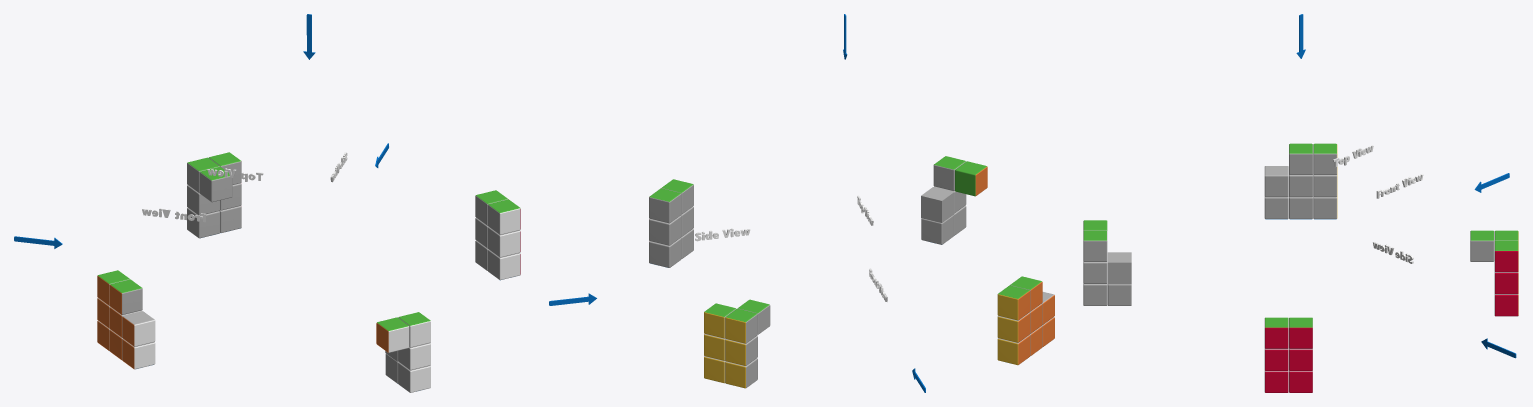
3 views of the same model, side by side, from view 1: azimuth 30°, elevation 25°; view 2: azimuth 150°, elevation 25°; view 3: azimuth 270°, elevation 25° (orthographic). The views are drawn at different scales.
Visible parts, largest first — view 1: pCube23, pCube26, pCube17, pCube28, pCube18, pCube20, pCube25, pCube22, pCube21, pCube27, pCube24, pCube9 (+6 smaller); view 2: pCube15, pCube4, pCube19, pCube26, pCube3, pCube7, pCube10, pCube13, pCube16, pCube6, pCube9, pCube2 (+7 smaller); view 3: pCube15, pCube27, pCube2, pCube28, pCube23, pCube18, pCube19, pCube4, pCube17, pCube10, pCube20, pCube5 (+11 smaller).
Part boxes in pixels (x1,y1,x2,y2): pCube23: (122,311,155,346); pCube26: (376,317,409,352); pCube17: (109,279,142,314); pCube28: (488,199,520,234); pCube18: (199,166,232,202); pCube20: (122,339,155,369); pCube25: (488,227,520,257); pCube22: (488,249,520,280); pCube21: (398,362,430,392); pCube27: (398,312,430,347); pCube24: (398,343,430,370); pCube9: (187,208,219,238); pCube15: (921,187,954,222); pCube4: (997,285,1030,320); pCube19: (649,188,681,223); pCube26: (955,161,987,196); pCube3: (725,308,757,343); pCube7: (997,312,1030,342); pCube10: (997,335,1030,365); pCube13: (649,238,681,267); pCube16: (649,215,681,245); pCube6: (725,336,757,365); pCube9: (725,358,757,388); pCube2: (704,303,736,338); pCube15: (1107,252,1131,284); pCube27: (1083,230,1107,261); pCube2: (1494,241,1518,272); pCube28: (1264,317,1288,348); pCube23: (1264,166,1288,197); pCube18: (1470,230,1494,261); pCube19: (1289,317,1312,348); pCube4: (1313,143,1337,174); pCube17: (1289,143,1312,174); pCube10: (1313,197,1337,219); pCube20: (1264,197,1288,219); pCube5: (1494,272,1518,294).
Size of the model in its own units: 0.3603 by 0.262 by 0.3603.
